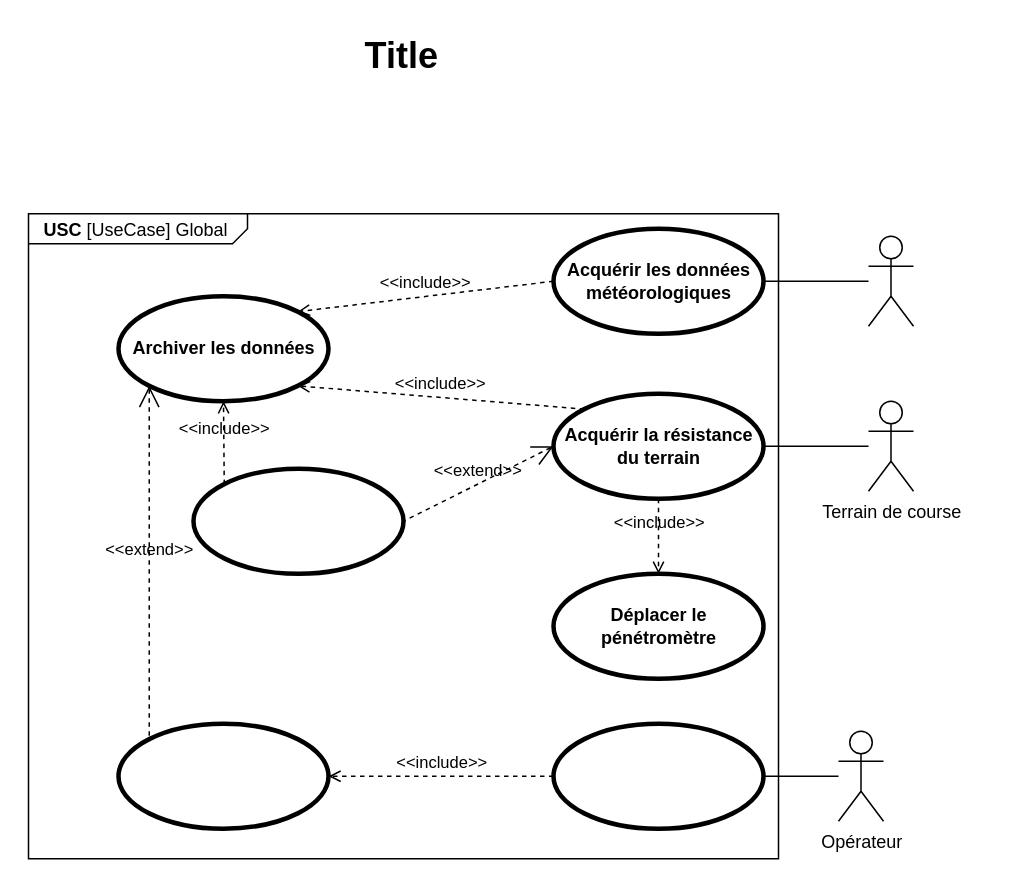
Some shapes in this 1023 by 885 pixel diagram are drawn without their labels. The shapes that lost their labels are listed below. From the top down, each one's centre as x and y in pixels, then its label:
the point at 890,280: Environemment climatique
the point at 297,520: Géolocaliser
the point at 223,775: Analyser les données
the point at 657,775: Consulter
